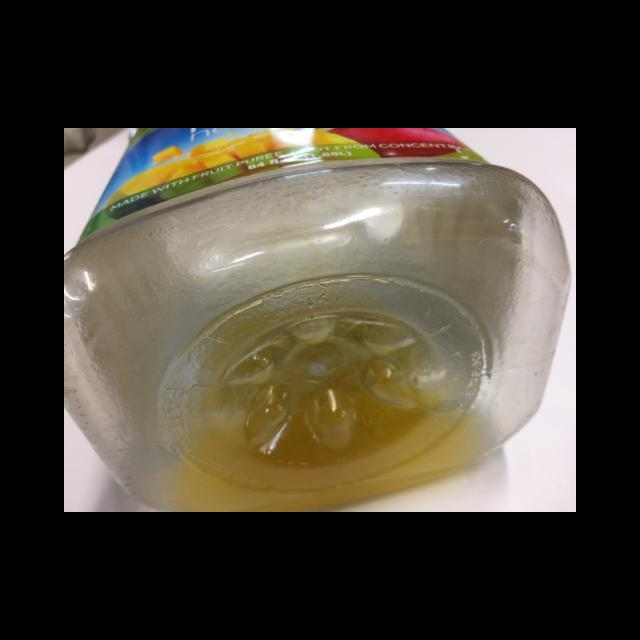plastic: (64, 128, 570, 511)
